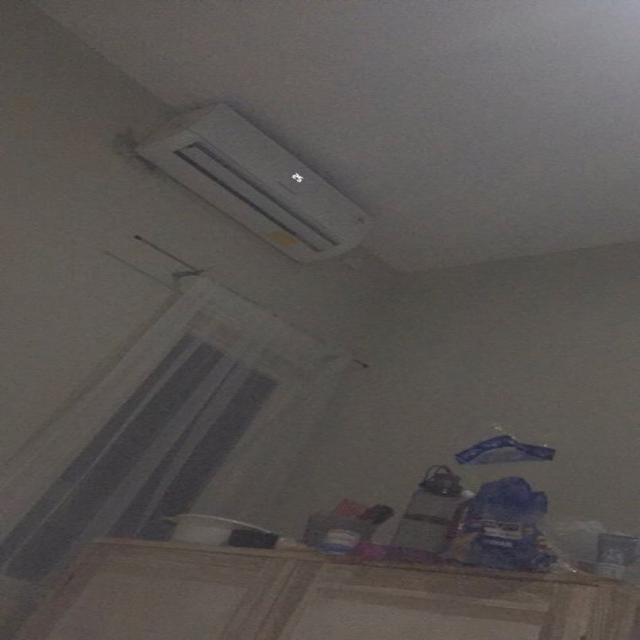AC: (132, 99, 373, 268)
